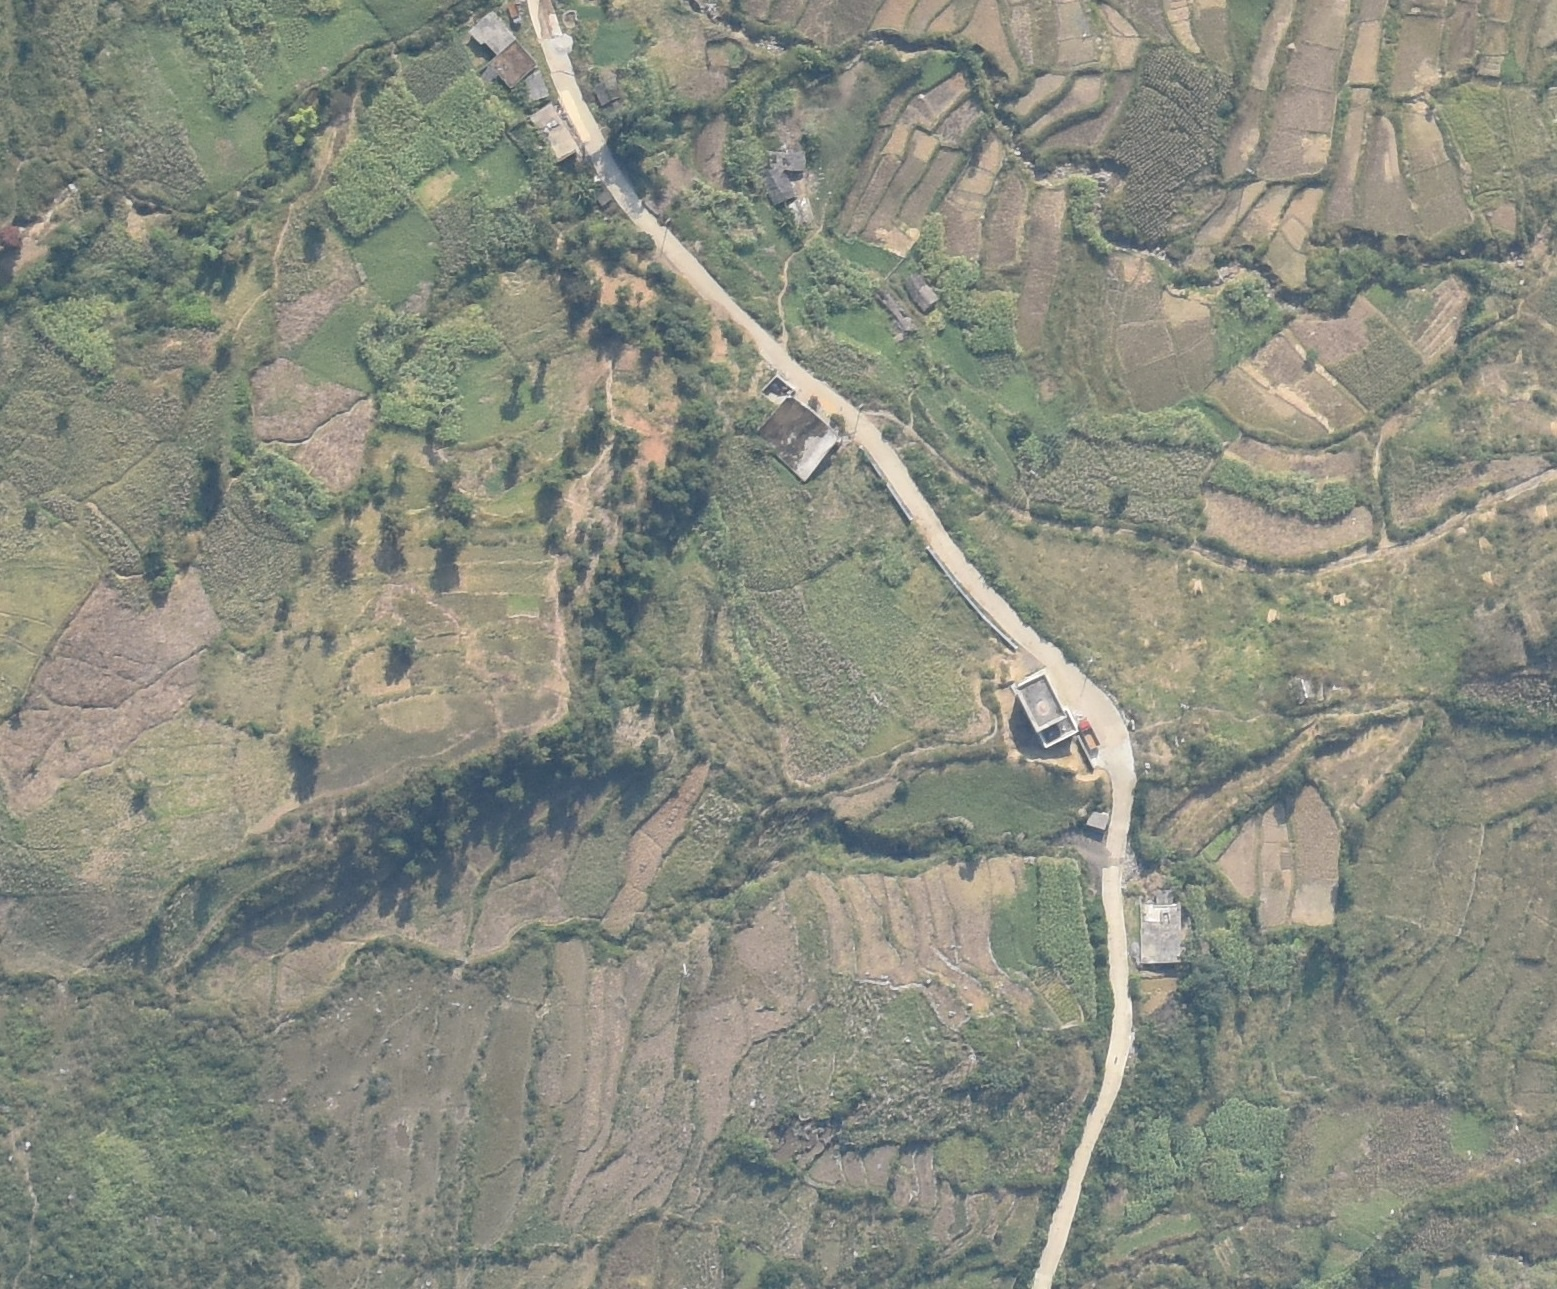building: (754, 399, 839, 482), (1015, 668, 1080, 749), (1139, 901, 1183, 964), (532, 103, 578, 163), (468, 10, 517, 53), (490, 41, 535, 87), (903, 275, 939, 310), (763, 172, 795, 206), (519, 71, 548, 107), (594, 78, 622, 106), (771, 150, 806, 171), (1086, 809, 1110, 831)
vehicle: (1079, 719, 1101, 751), (507, 1, 522, 26)
